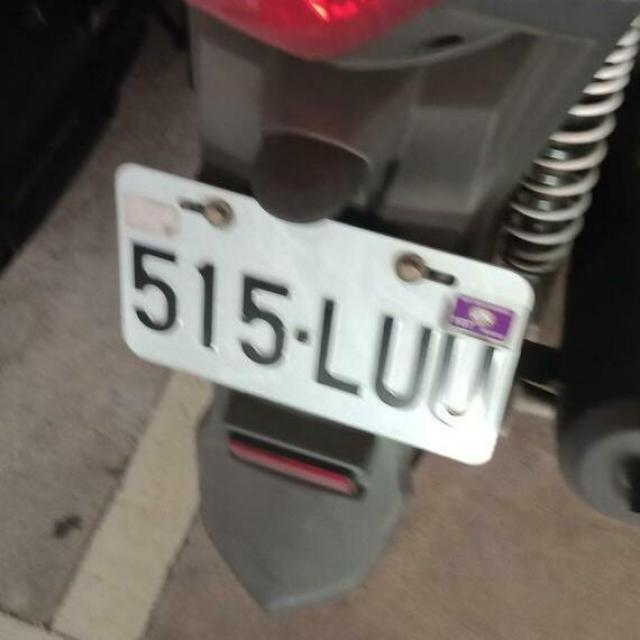W: (82, 150, 555, 478)
